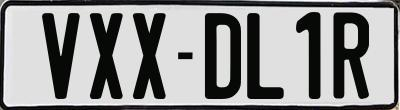1: (296, 12, 325, 99)
D: (203, 13, 243, 104)
L: (245, 10, 282, 97)
R: (330, 10, 370, 101)
V: (40, 13, 81, 102)
X: (87, 10, 124, 96), (133, 13, 167, 104)
